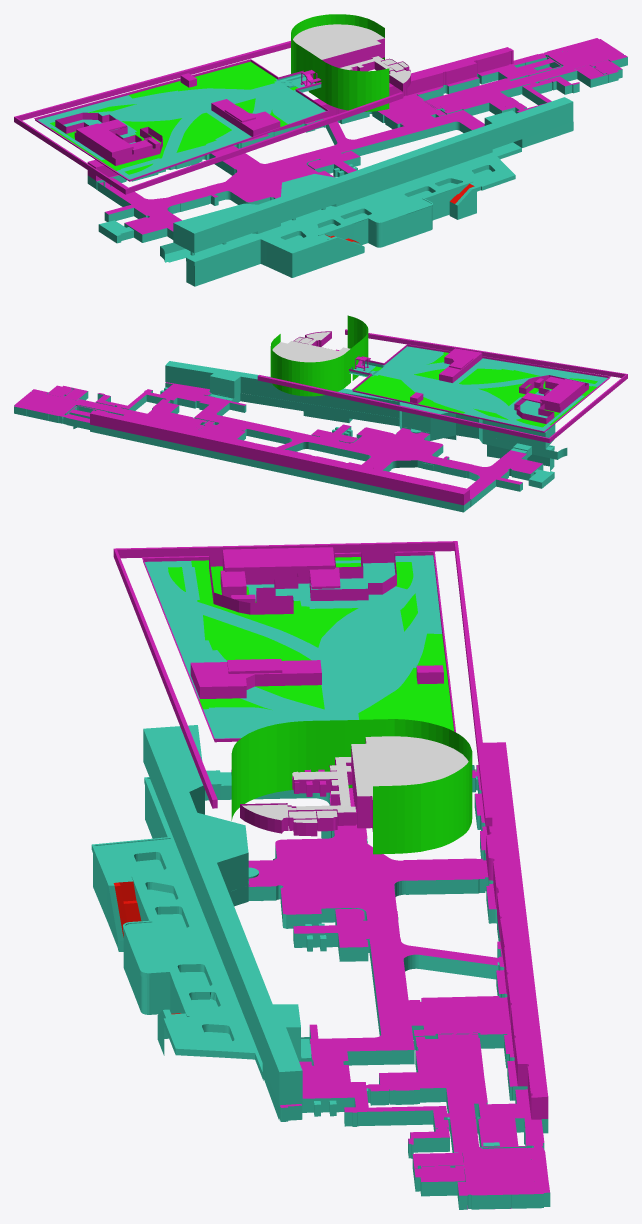
File: bj_xindongli_indoor.FBX
3 renders of one model, top to bottom at view 1: azimuth 30°, elevation 25°; view 2: azimuth 150°, elevation 25°; view 3: azimuth 270°, elevation 25°, orthographic. The views are drawn at different scales.
Visible parts, largest first — view 1: bj_xdl_f2, bj_xdl_f10, bj_xdl_f2_ding, bj_xdl_f10_ding; view 2: bj_xdl_f2, bj_xdl_f10, bj_xdl_f2_ding, bj_xdl_f10_ding; view 3: bj_xdl_f10, bj_xdl_f2, bj_xdl_f2_ding, bj_xdl_f10_ding.
Part boxes in pixels (x1,y1,x2,y2): bj_xdl_f2: (87, 50, 627, 286); bj_xdl_f10: (14, 14, 410, 194); bj_xdl_f2_ding: (88, 38, 627, 235); bj_xdl_f10_ding: (293, 24, 410, 83); bj_xdl_f2: (14, 361, 567, 512); bj_xdl_f10: (257, 315, 627, 442); bj_xdl_f2_ding: (14, 382, 554, 500); bj_xdl_f10_ding: (272, 332, 350, 362); bj_xdl_f10: (113, 541, 492, 854); bj_xdl_f2: (91, 725, 550, 1209); bj_xdl_f2_ding: (206, 742, 549, 1195); bj_xdl_f10_ding: (242, 736, 468, 822).
Bounding box in the file's own units: 220 × 84.7 × 50.23.
